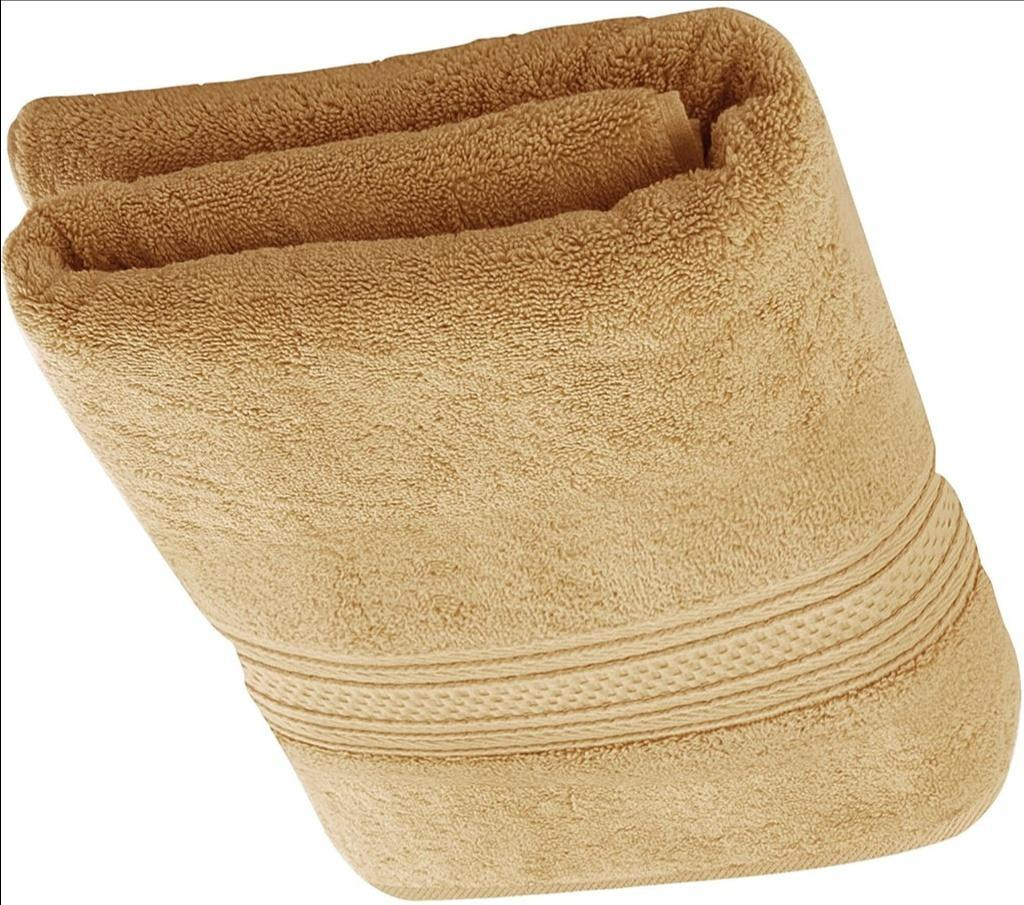towel: (6, 12, 1024, 905)
